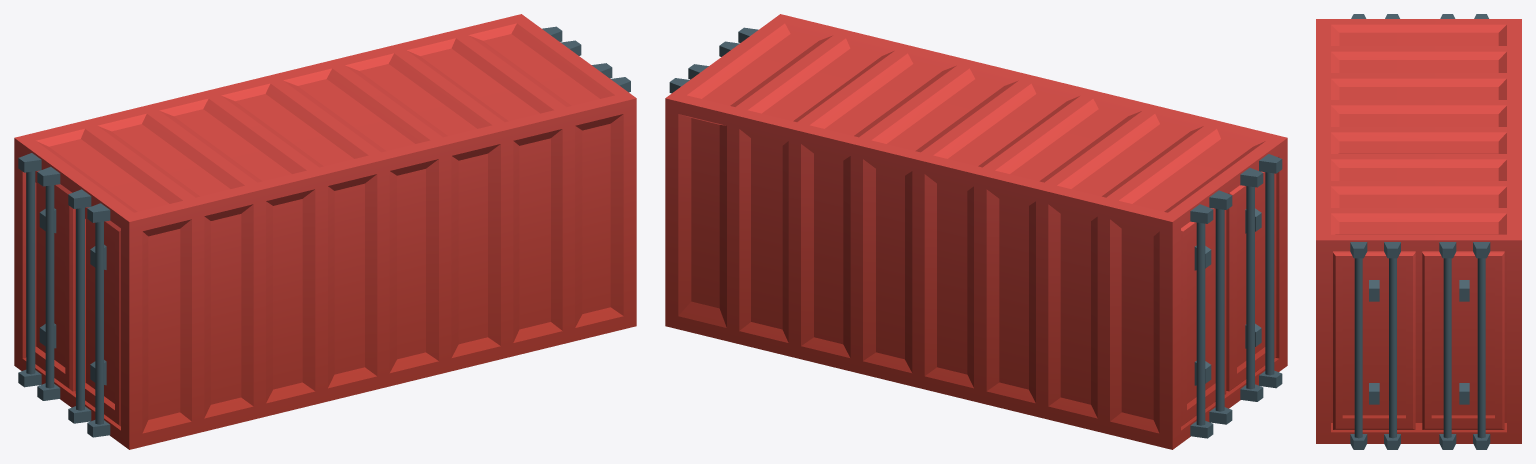
Rendered from CC_Red.fbx.
3 views of the same model, side by side, from view 1: azimuth 30°, elevation 25°; view 2: azimuth 150°, elevation 25°; view 3: azimuth 270°, elevation 25° (orthographic). The views are drawn at different scales.
Parts seen in each view (by area): view 1: CC_Red; view 2: CC_Red; view 3: CC_Red.
Part boxes in pixels (x1,y1,x2,y2): CC_Red: (14, 14, 636, 449); CC_Red: (665, 14, 1287, 449); CC_Red: (1316, 14, 1521, 449).
Size of the model in its own units: 648 by 262 by 240.
